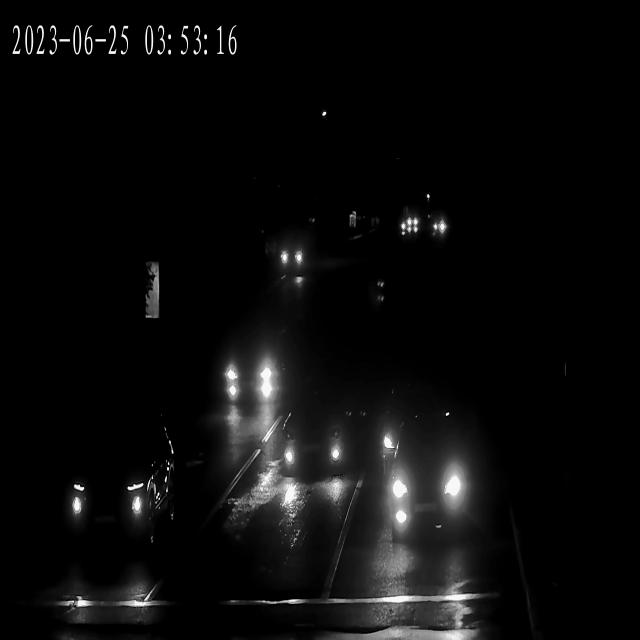Car: (56, 417, 179, 545), (378, 442, 471, 538), (280, 413, 355, 480), (216, 332, 281, 403), (277, 244, 308, 276), (394, 222, 418, 240), (393, 218, 418, 235), (427, 221, 449, 240), (398, 218, 421, 236), (427, 218, 448, 237)
